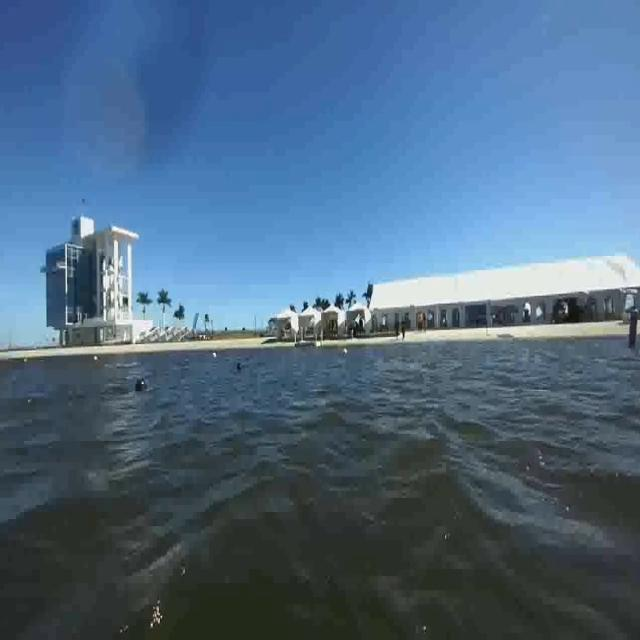black-buoy: (134, 375, 148, 393)
